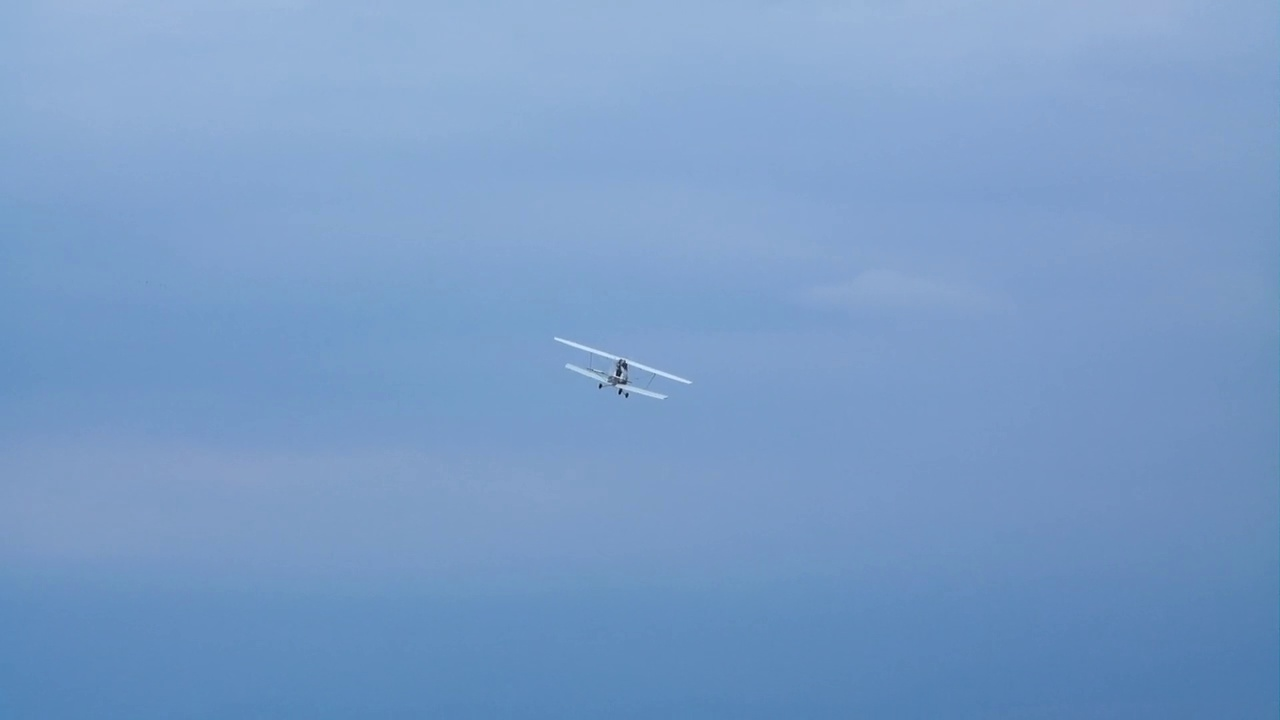plane: (554, 333, 692, 402)
